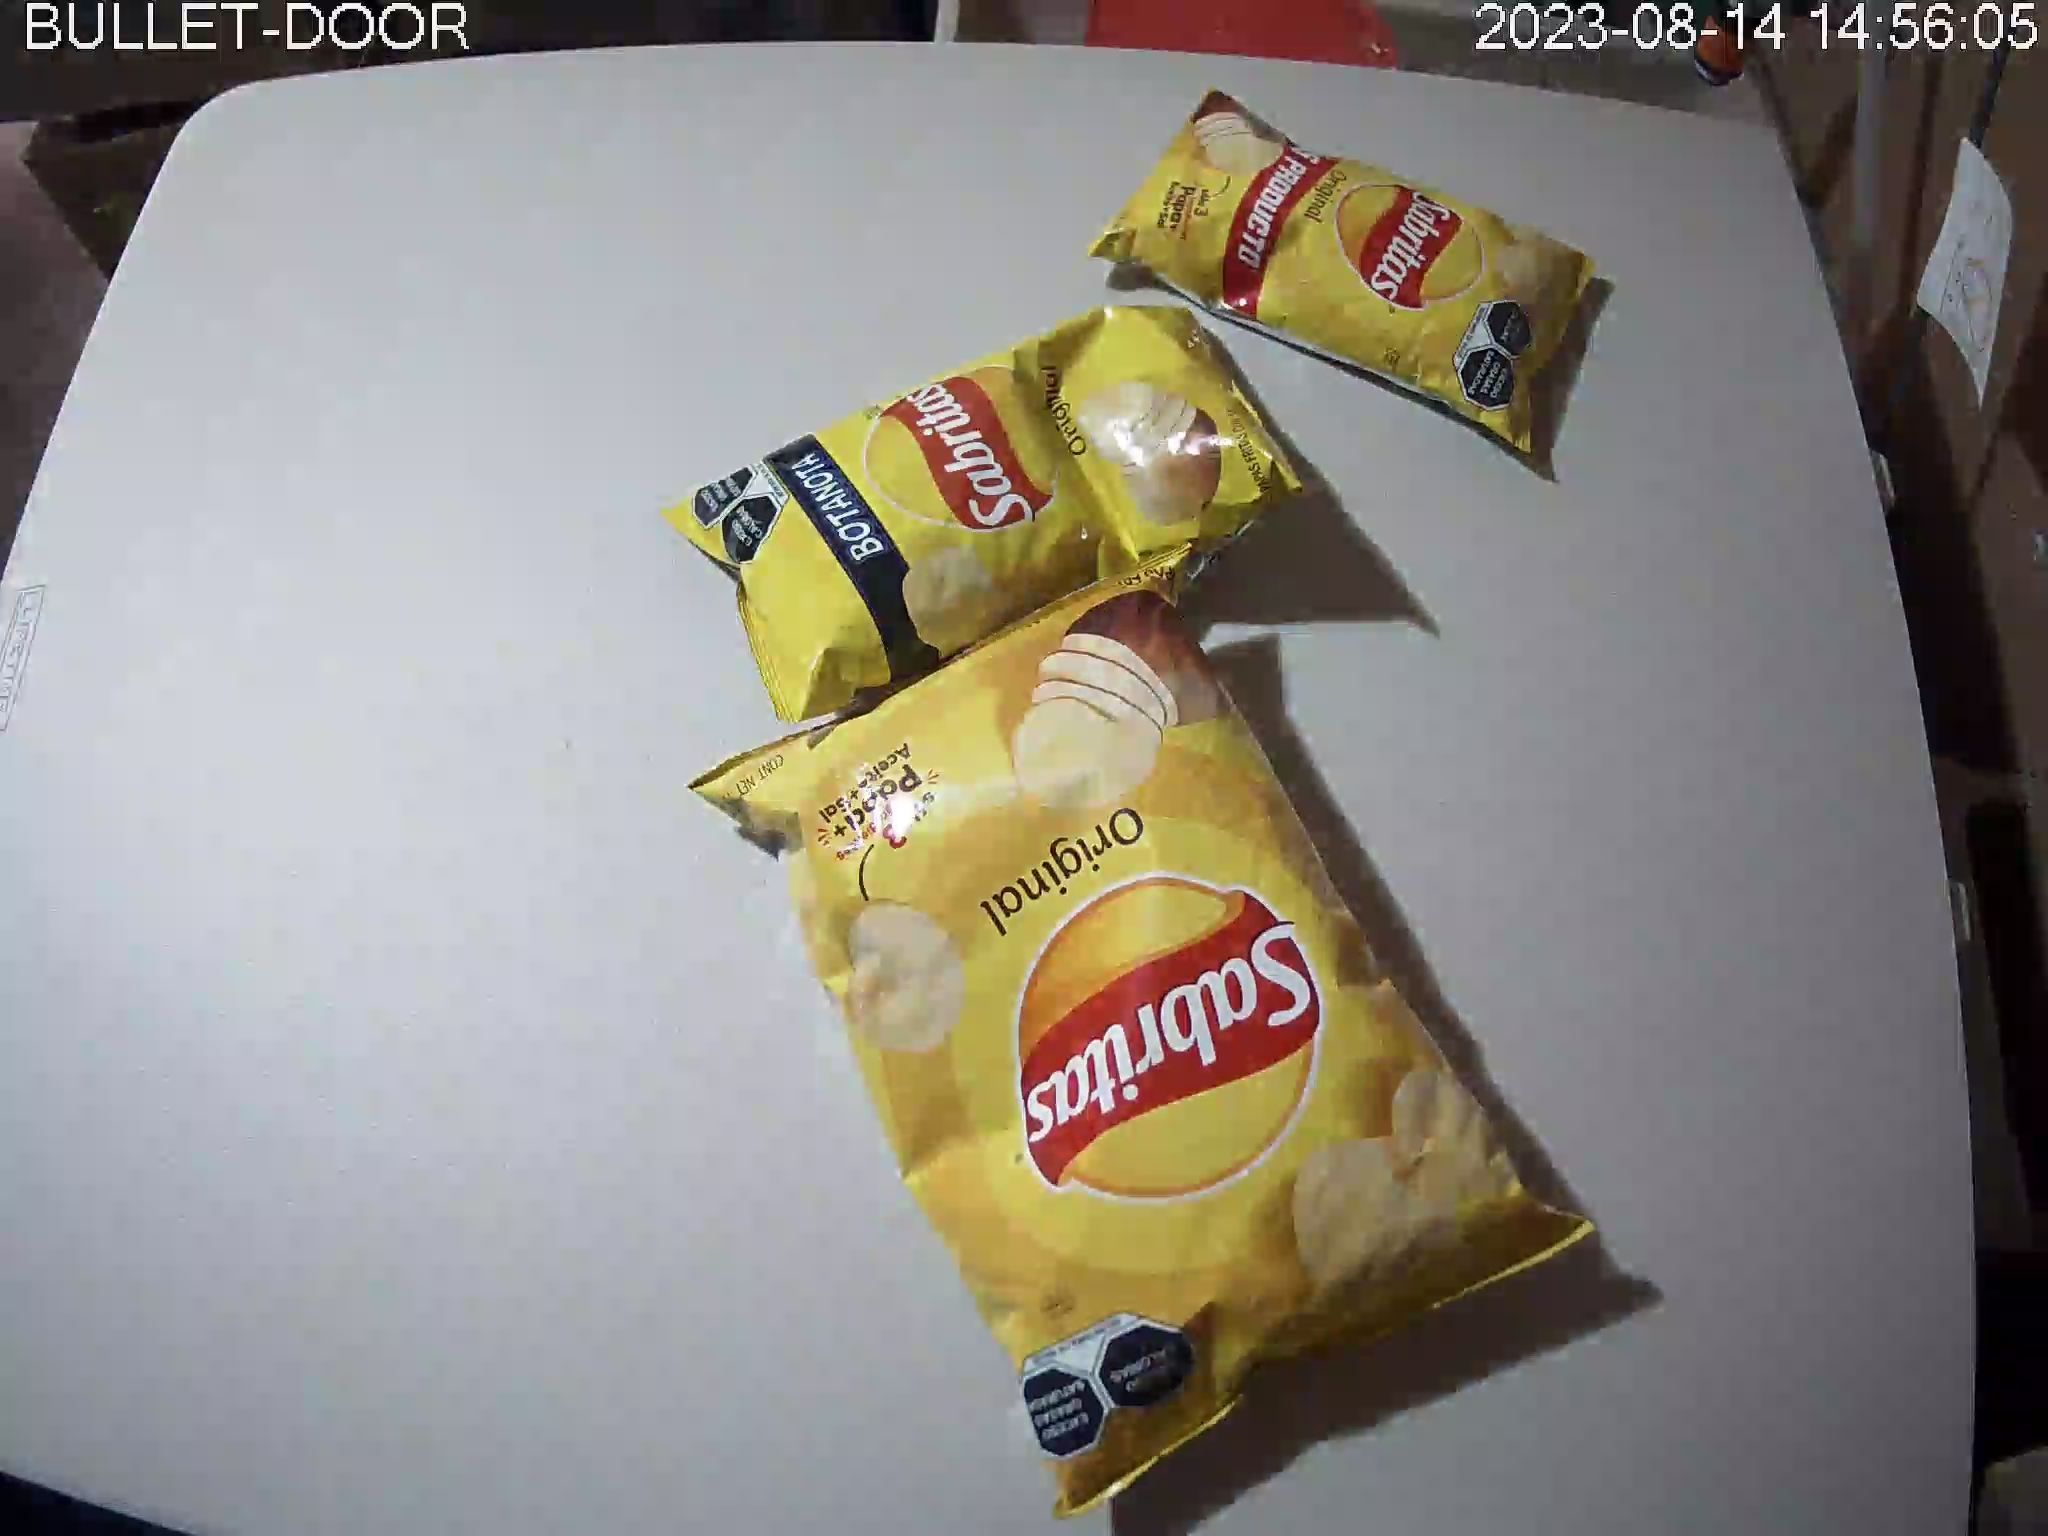Sabritas_160_F: (689, 539, 1593, 1518)
Sabritas_45_F: (1080, 92, 1598, 457)
Sabritas_64_F: (656, 303, 1321, 723)
